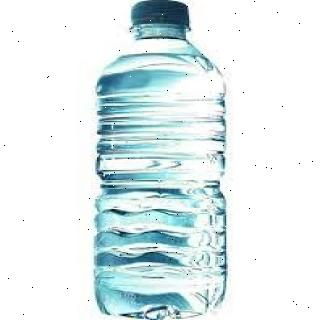Plastic-bottle: (87, 1, 234, 320)
